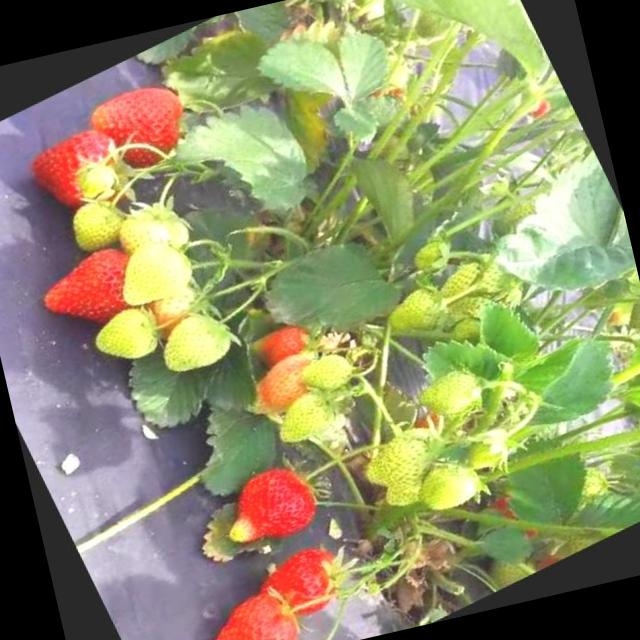ripe: (8, 113, 136, 230), (26, 235, 158, 346), (78, 66, 202, 184), (206, 451, 326, 558), (247, 532, 363, 632), (188, 578, 308, 640), (242, 310, 322, 376)
